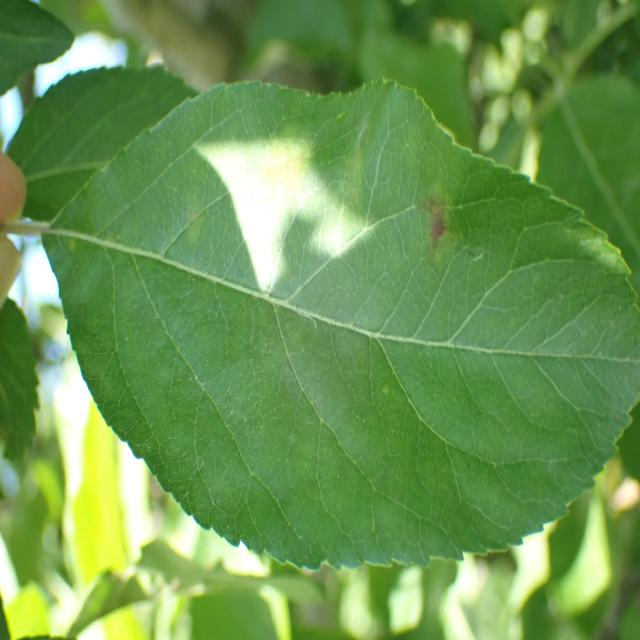scab: (161, 77, 596, 455)
